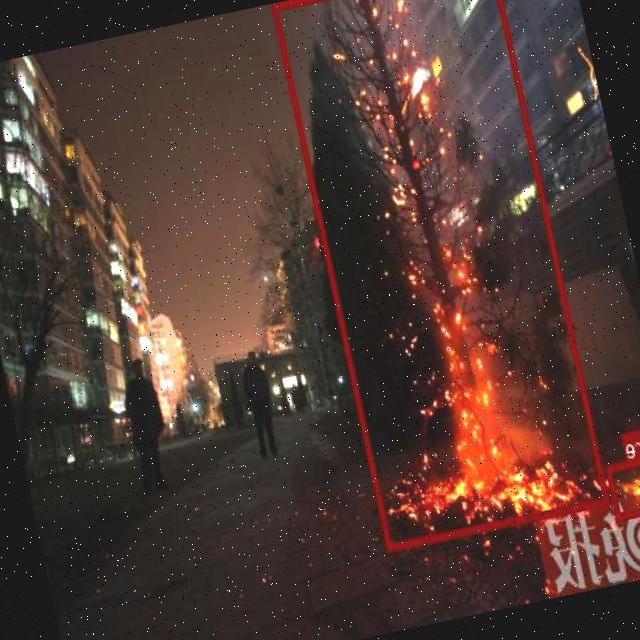fire: (272, 0, 611, 551), (606, 451, 640, 519)
